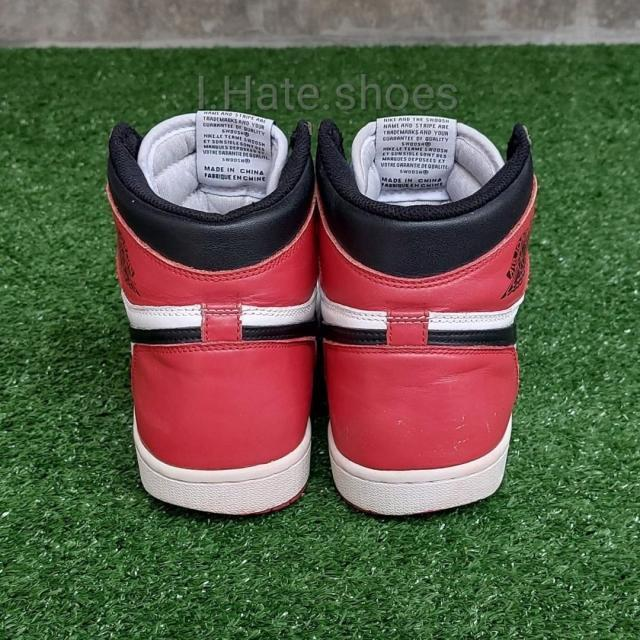nike fake jordan 1: (311, 110, 540, 518), (108, 108, 326, 518)
